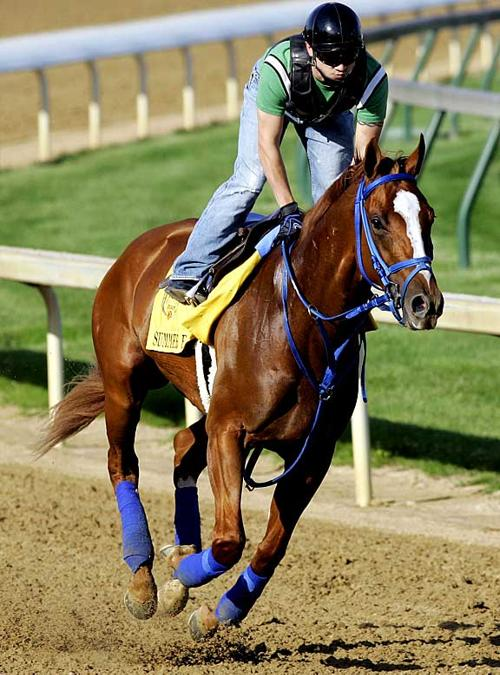person: (158, 3, 389, 313)
